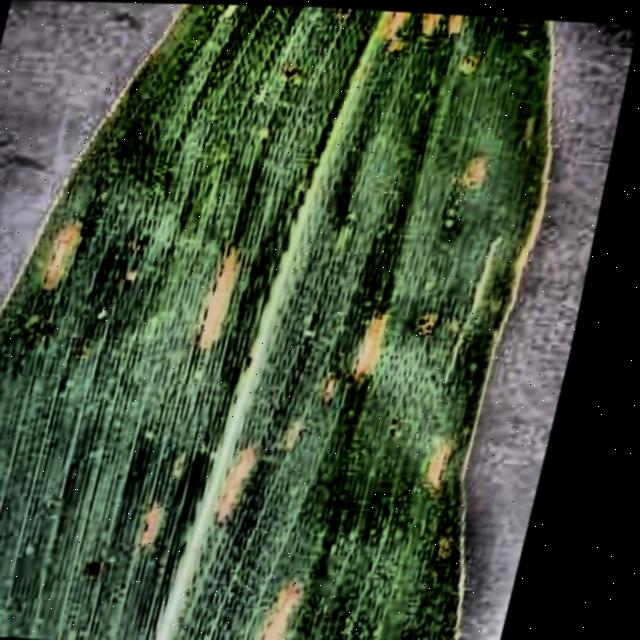gray_spot: (0, 0, 597, 640)
